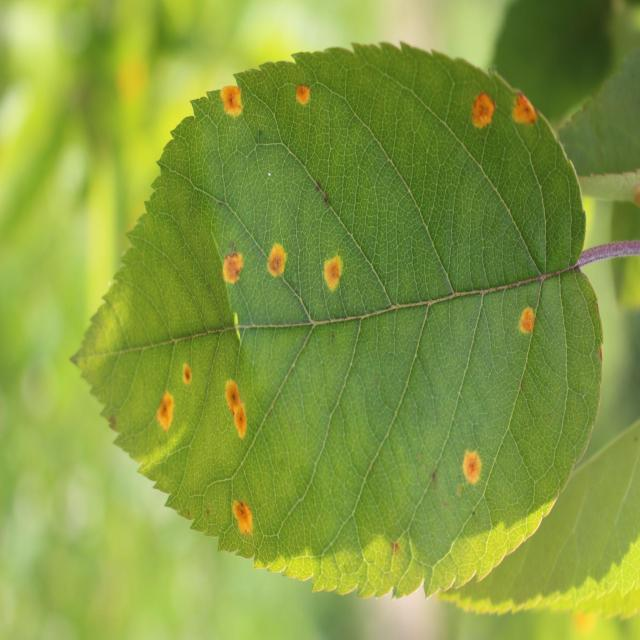Rust: (142, 373, 179, 458), (507, 78, 546, 149), (222, 372, 260, 444), (210, 69, 244, 142), (456, 438, 498, 495), (284, 59, 315, 133), (264, 227, 295, 300), (510, 283, 540, 354), (459, 80, 498, 133), (224, 488, 257, 541), (220, 235, 245, 299), (319, 243, 344, 305), (177, 346, 201, 401)
